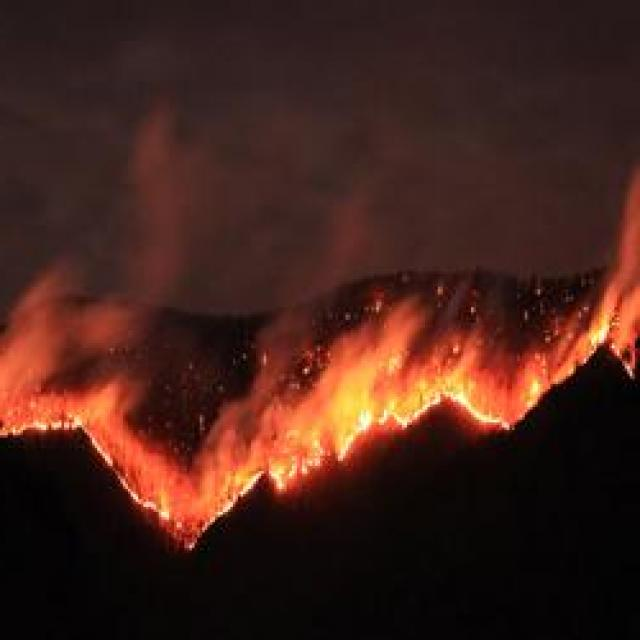smoke: (292, 276, 488, 380), (0, 262, 146, 392), (165, 396, 255, 470)
